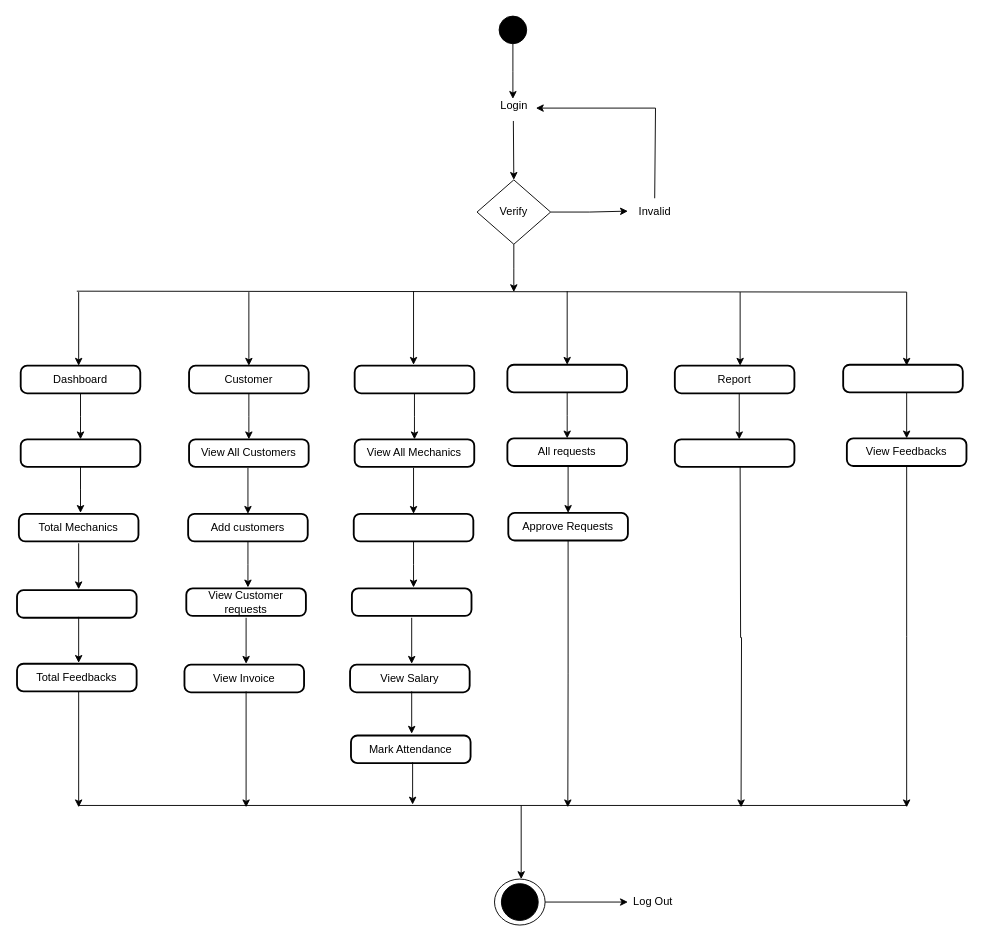
This 983x941 diagram has some shape labels left out. The box of each missing label's shape, as (x1, y1, x2, y2) in pixels:
Add Mechanics: (352, 512, 474, 542)
Approve Mechanic: (351, 587, 472, 616)
Feedback: (842, 363, 963, 393)
Mechanic: (353, 364, 475, 394)
Requests: (506, 363, 627, 393)
Total Customers: (19, 438, 141, 467)
Total Requests: (16, 589, 137, 618)
View Report: (673, 438, 795, 467)
